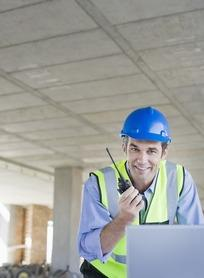helmet: (121, 109, 172, 146)
